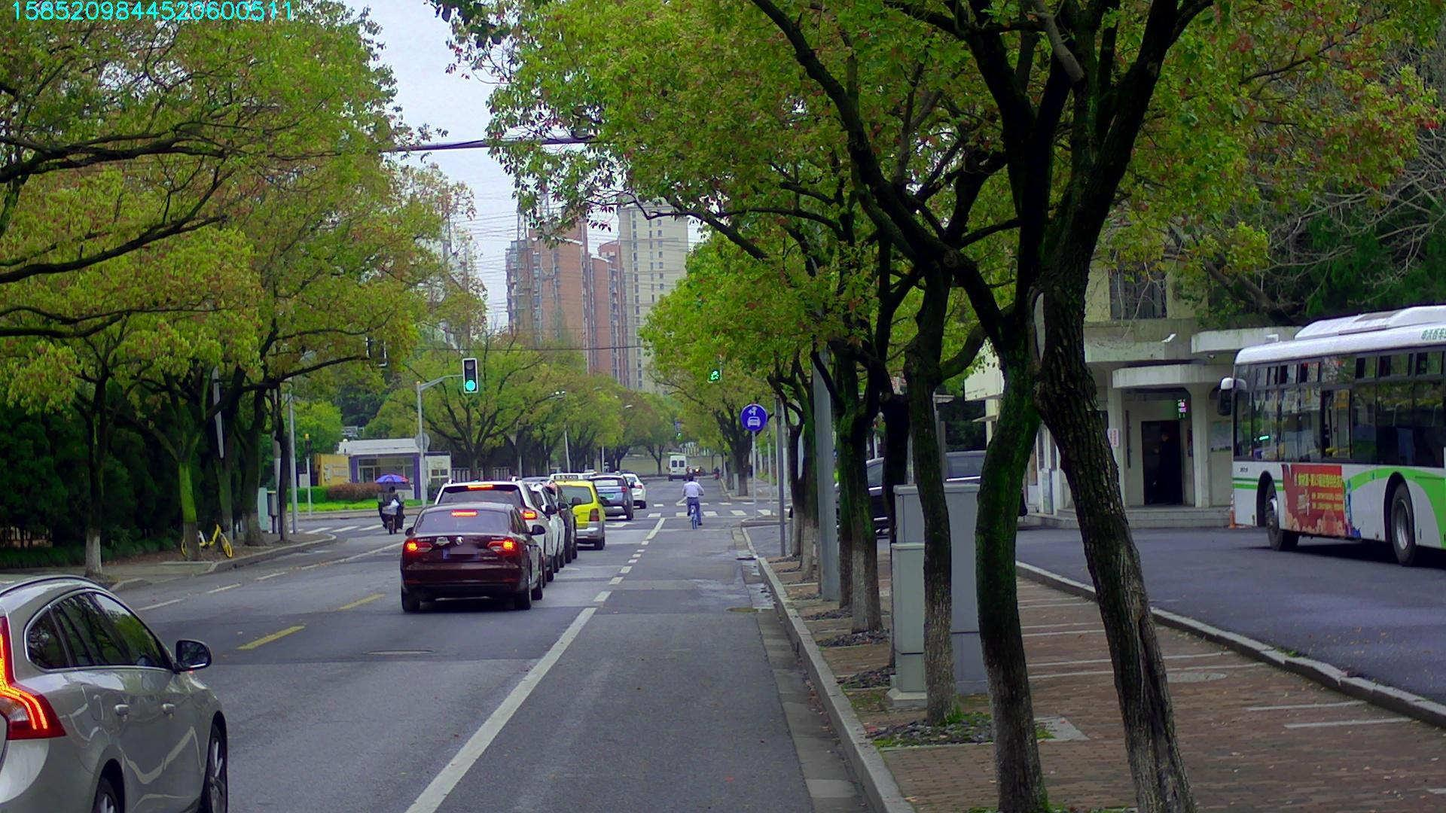green: (462, 358, 477, 391), (708, 349, 720, 381)
